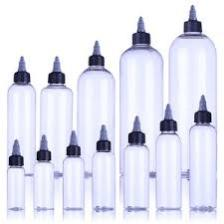plastic: (168, 4, 218, 176), (118, 16, 165, 175), (78, 42, 114, 174), (39, 58, 73, 176), (8, 55, 37, 175), (156, 103, 184, 210), (190, 96, 215, 213), (124, 117, 149, 213), (91, 125, 117, 210), (63, 135, 85, 211), (63, 148, 85, 213), (6, 140, 25, 213), (34, 133, 52, 208)
